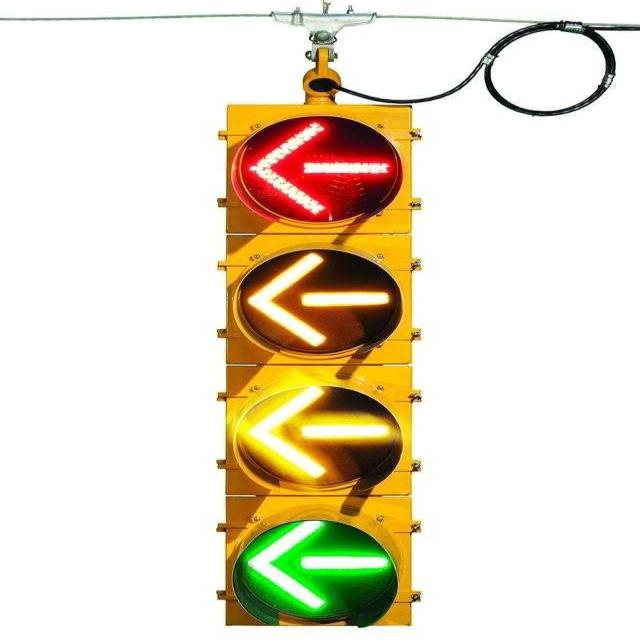Traffic Light -Green-: (228, 516, 405, 628)
Traffic Light -Red-: (200, 100, 440, 234)
Traffic Light -Yellow-: (212, 367, 422, 497)
